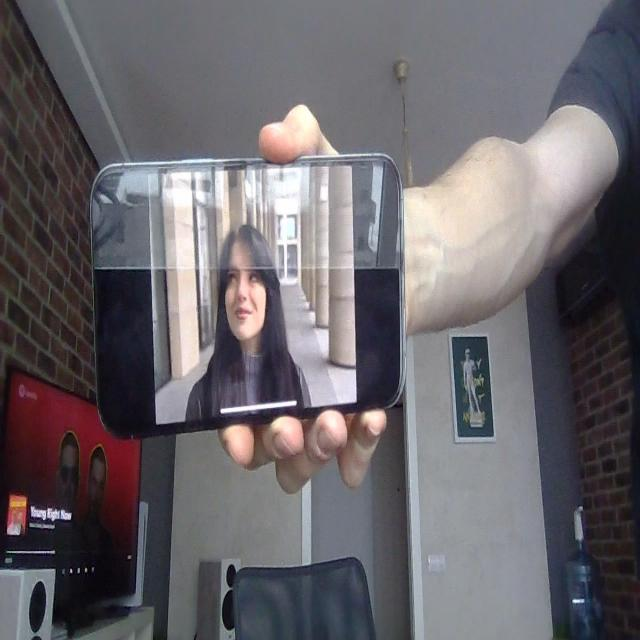device: (83, 137, 427, 460)
